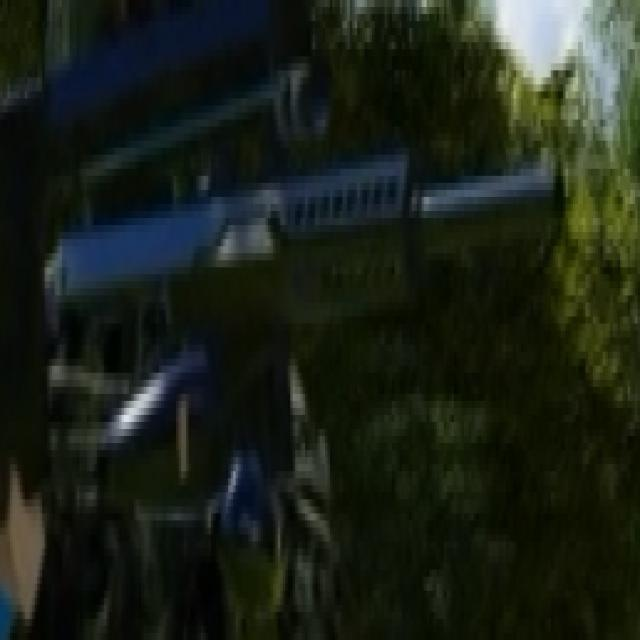RifleTel: (57, 61, 587, 540)
